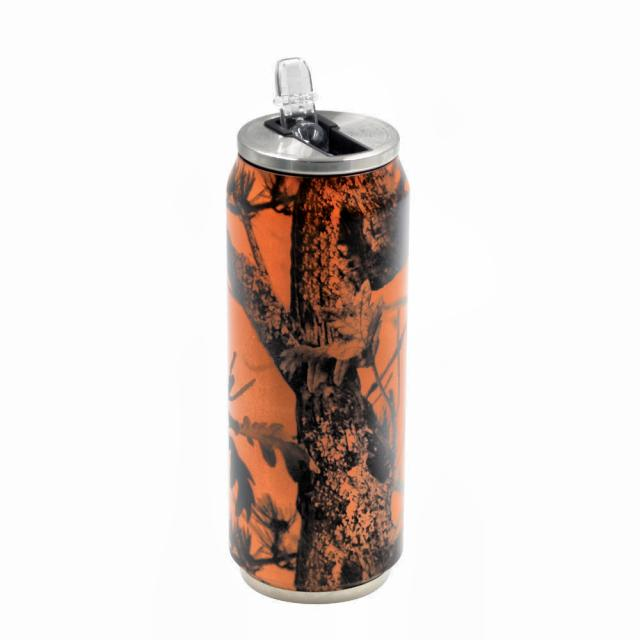Cans: (210, 62, 424, 621)
